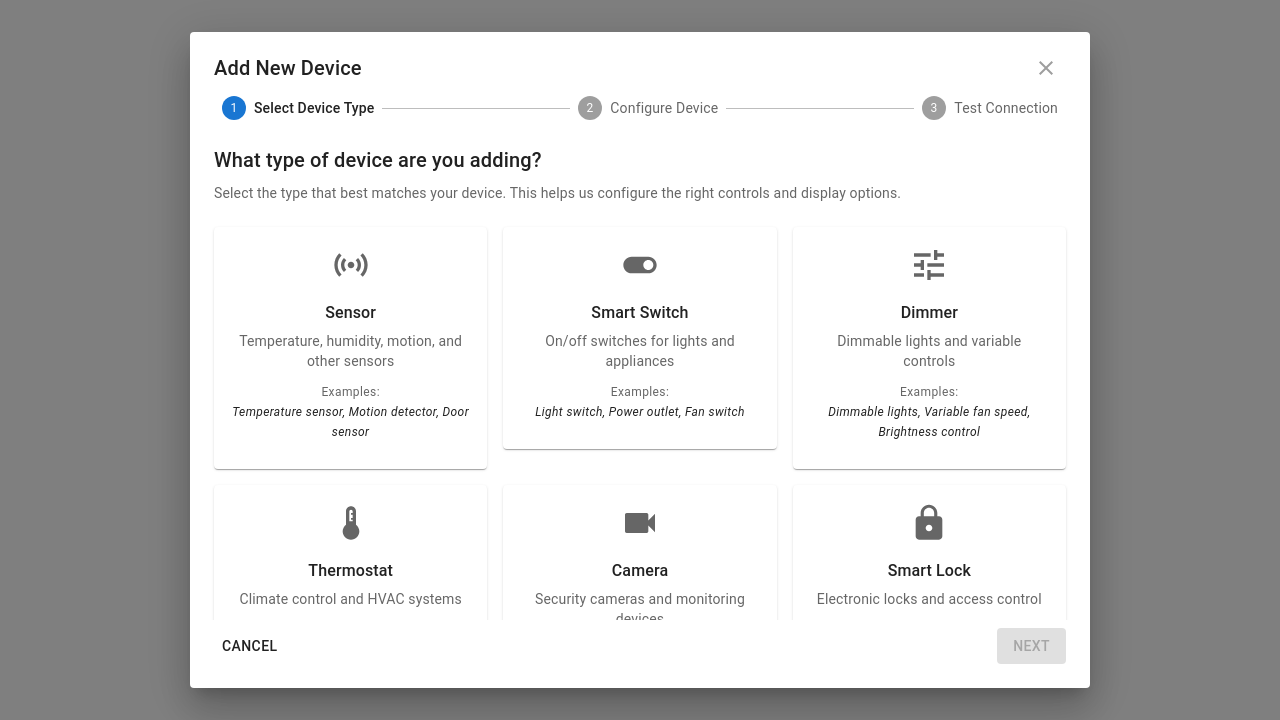
Test: Device Management Workflows › Complete Device Addition Workflow › validates each step before allowing progression
Check: the button "Next" is disabled, box top-left (997, 628), bottom-right (1066, 664)
Note: Select device type
Click the text "Smart Switch" at coordinates (640, 332), box top-left (535, 245), bottom-right (745, 419)
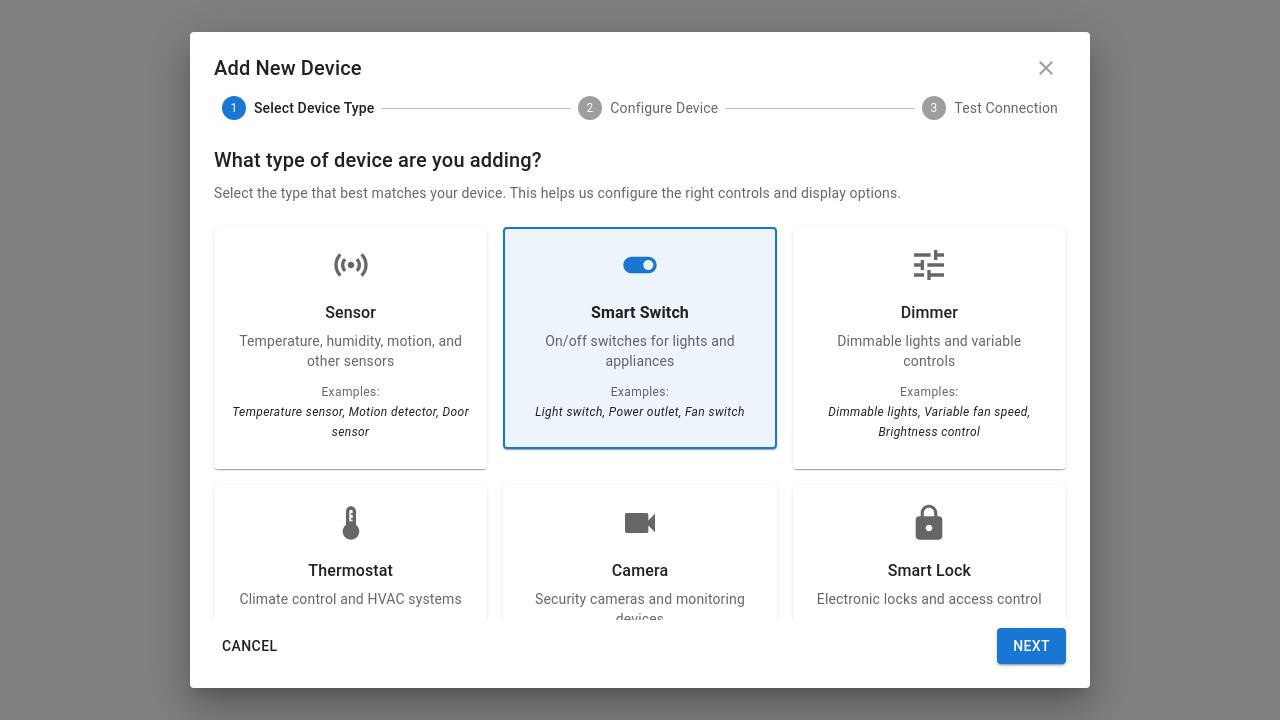
Check: the button "Next" is enabled
Click the button "Next" at coordinates (1032, 646), box top-left (997, 628), bottom-right (1066, 664)
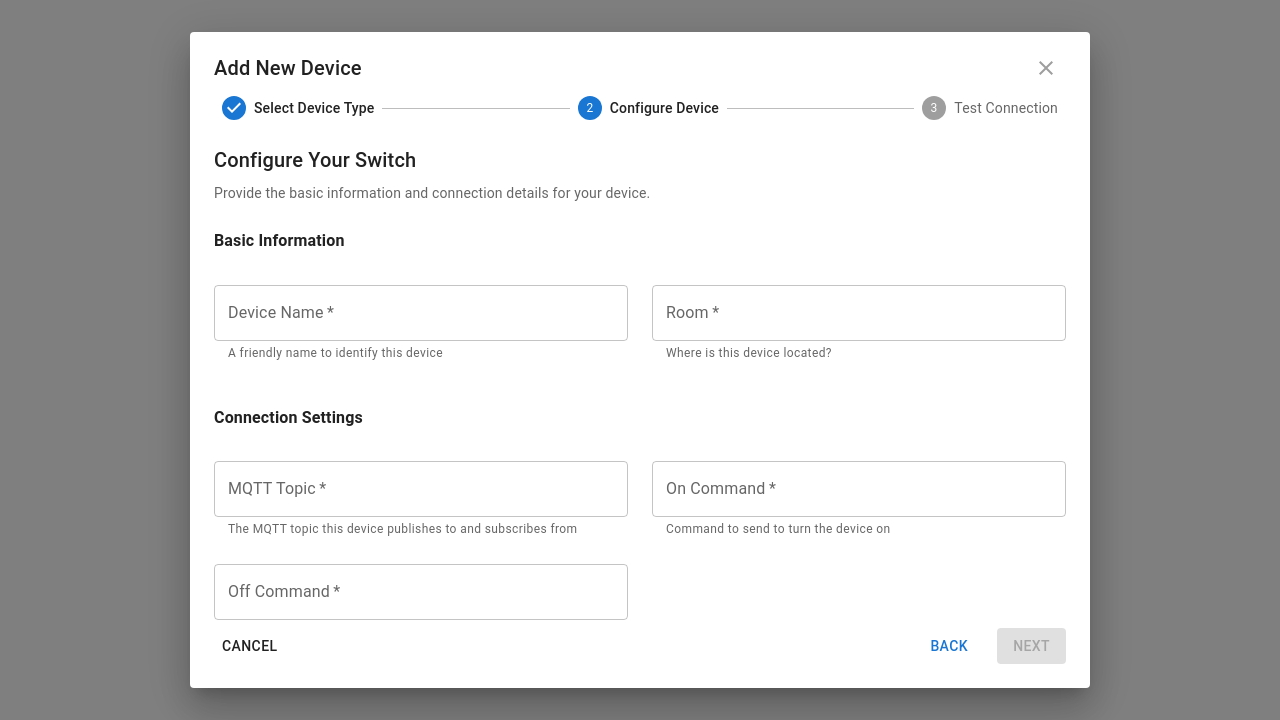
Check: the button "Next" is disabled, box top-left (997, 628), bottom-right (1066, 664)
Note: Fill required fields
Type "Test Switch" into the field labelled "Device Name *" at coordinates (421, 313), box top-left (214, 285), bottom-right (628, 341)
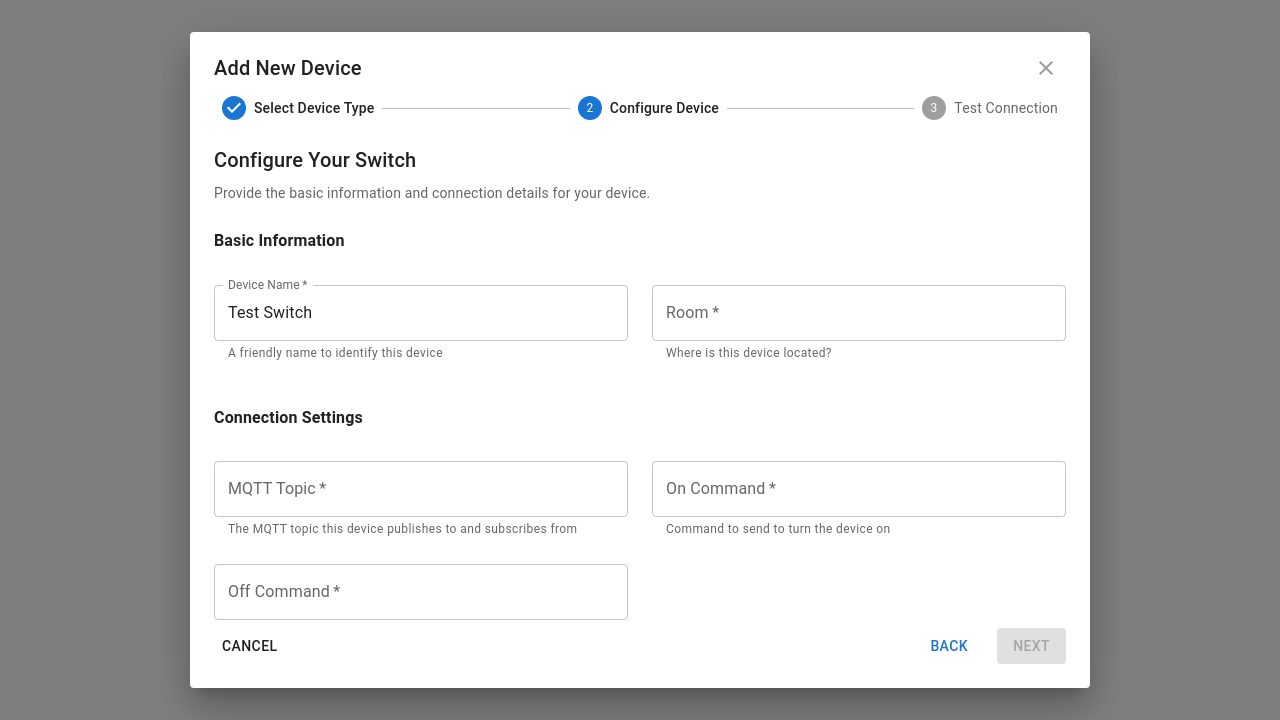
Type "Bedroom" into the dropdown labelled "Room *" at coordinates (844, 313), box top-left (661, 294), bottom-right (1027, 332)
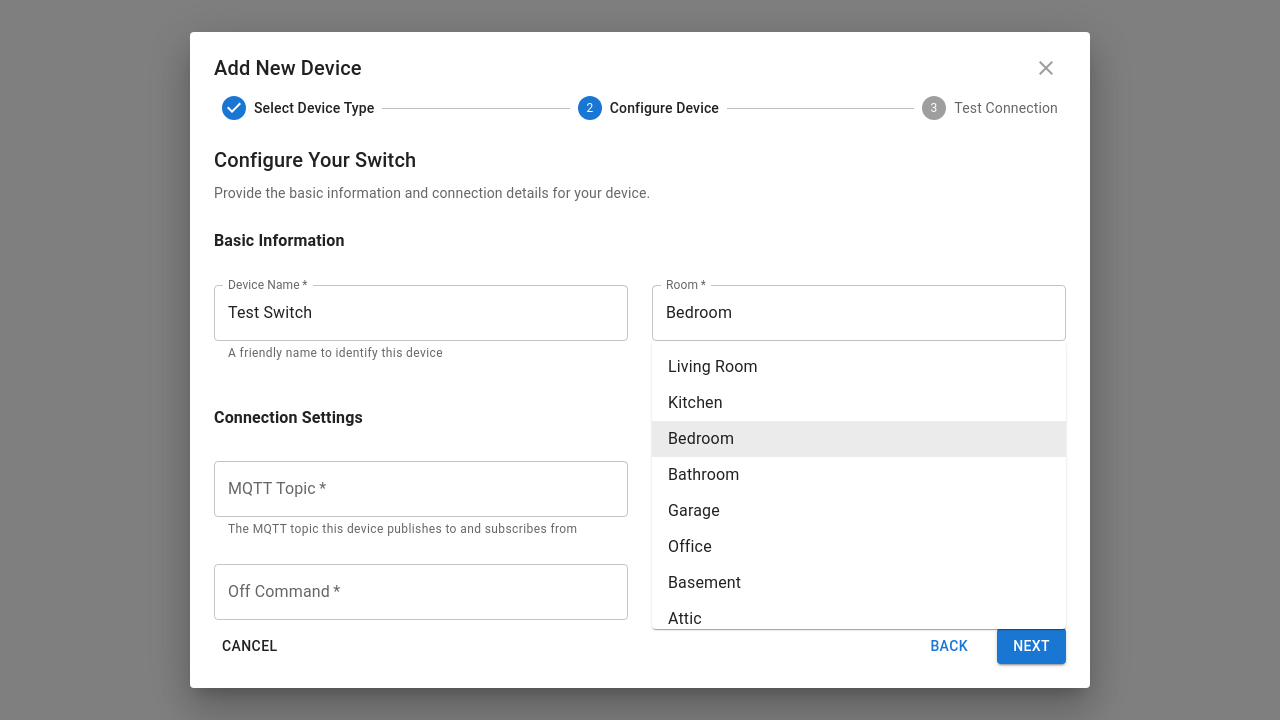
Check: the button "Next" is enabled, box top-left (997, 628), bottom-right (1066, 664)
